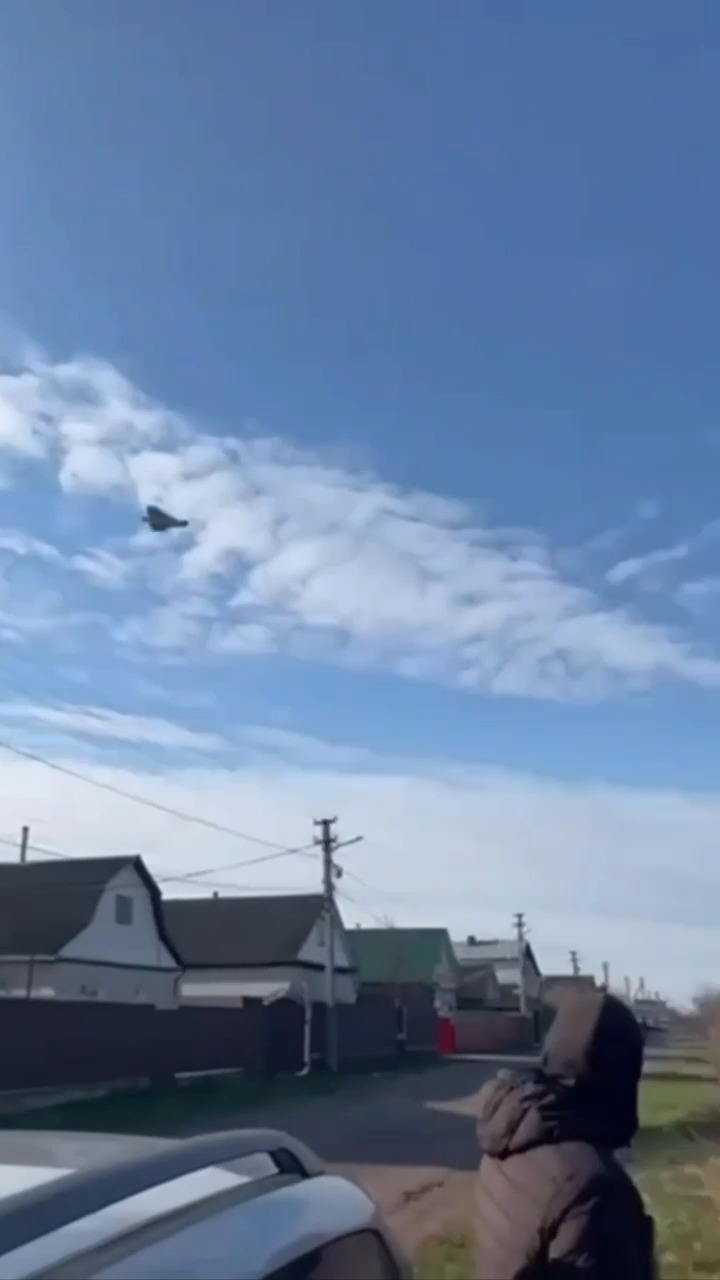shahed: (140, 498, 194, 539)
